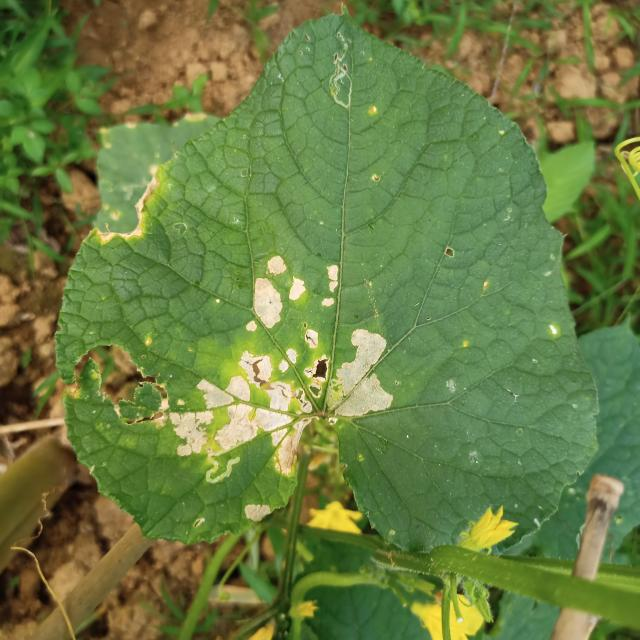disease_cucumber: (164, 248, 402, 475)
